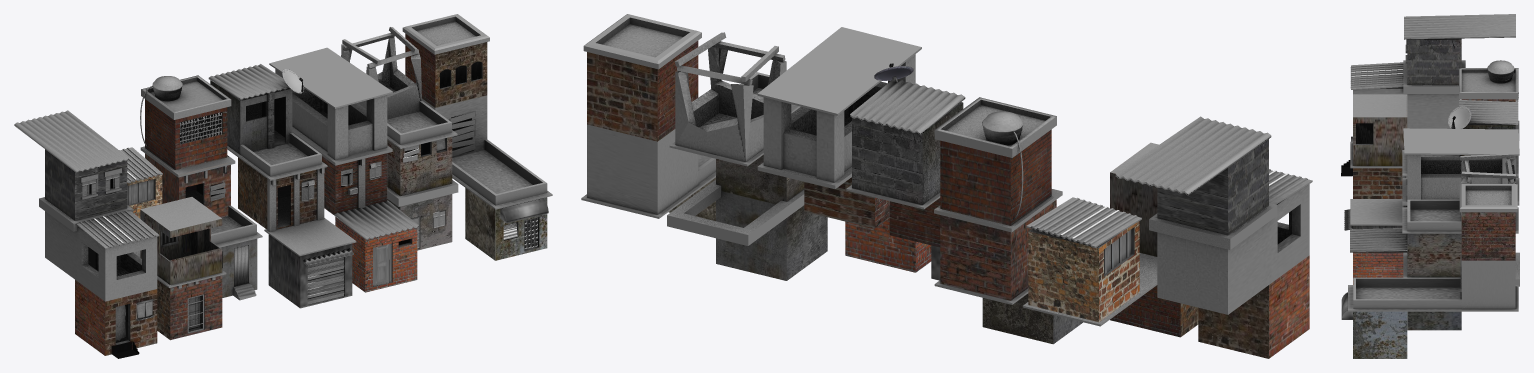
File: modular_slums.glb
3 views of the same model, side by side, from view 1: azimuth 30°, elevation 25°; view 2: azimuth 150°, elevation 25°; view 3: azimuth 270°, elevation 25° (orthographic). The views are drawn at different scales.
Parts seen in each view (by area): view 1: C1_24, G1_3, F5_5, D3_17, F6_4, A4_32, A6_30, G4_0, B2_28, F2_8, G3_1, A2_34 (+23 smaller); view 2: C1_24, G1_3, F5_5, E1_14, D2_18, B2_28, G2_2, B3_27, A2_34, F6_4, F1_9, E5_10 (+18 smaller); view 3: C1_24, G1_3, G3_1, D3_17, G4_0, G2_2, F1_9, F2_8, E3_12, E2_13, B1_29, F5_5 (+16 smaller).
Boxes of the visible parts, box(x1,y1,x2,y2) form: C1_24: box(269, 47, 392, 160); G1_3: box(402, 14, 489, 107); F5_5: box(45, 211, 157, 301); D3_17: box(140, 197, 222, 284); F6_4: box(75, 280, 157, 358); A4_32: box(238, 157, 324, 231); A6_30: box(268, 234, 353, 308); G4_0: box(465, 188, 548, 260); B2_28: box(145, 99, 227, 169); F2_8: box(45, 149, 127, 220); G3_1: box(452, 139, 552, 209); A2_34: box(210, 69, 303, 154); C1_24: box(757, 27, 921, 182); G1_3: box(583, 14, 701, 141); F5_5: box(1157, 184, 1309, 314); E1_14: box(675, 32, 786, 161); D2_18: box(1028, 221, 1139, 322); B2_28: box(940, 129, 1051, 225); G2_2: box(587, 124, 698, 214); B3_27: box(934, 189, 1062, 300); A2_34: box(852, 63, 963, 205); F6_4: box(1198, 255, 1309, 358); F1_9: box(1115, 116, 1271, 195); E5_10: box(716, 191, 827, 280); C1_24: box(1403, 128, 1519, 199); G1_3: box(1459, 184, 1517, 260); G3_1: box(1348, 277, 1518, 311); D3_17: box(1353, 94, 1407, 165); G4_0: box(1341, 292, 1407, 358); G2_2: box(1460, 256, 1515, 309); F1_9: box(1404, 14, 1515, 39); F2_8: box(1405, 38, 1461, 84); E3_12: box(1407, 233, 1461, 277); E2_13: box(1402, 199, 1518, 233); B1_29: box(1459, 60, 1518, 99); F5_5: box(1353, 87, 1459, 128).
Bounding box in the file's own units: 17.25 × 6.75 × 6.59.
Materials: 36 (36 with a texture image).
